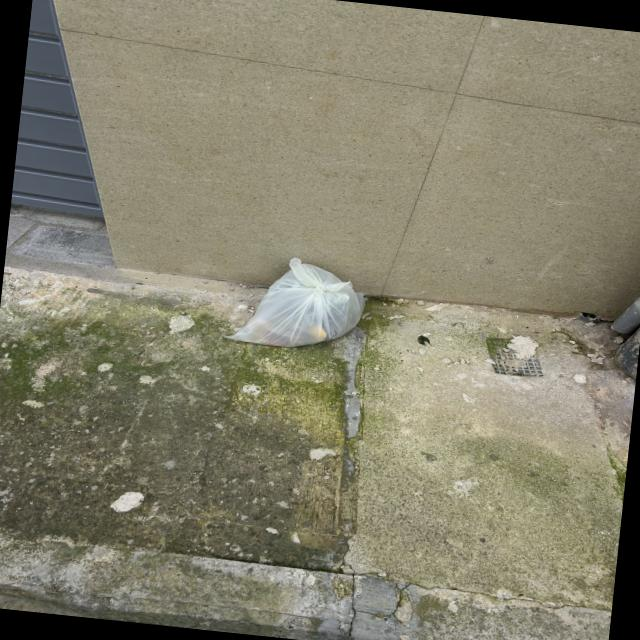white_bag: (224, 248, 371, 357)
